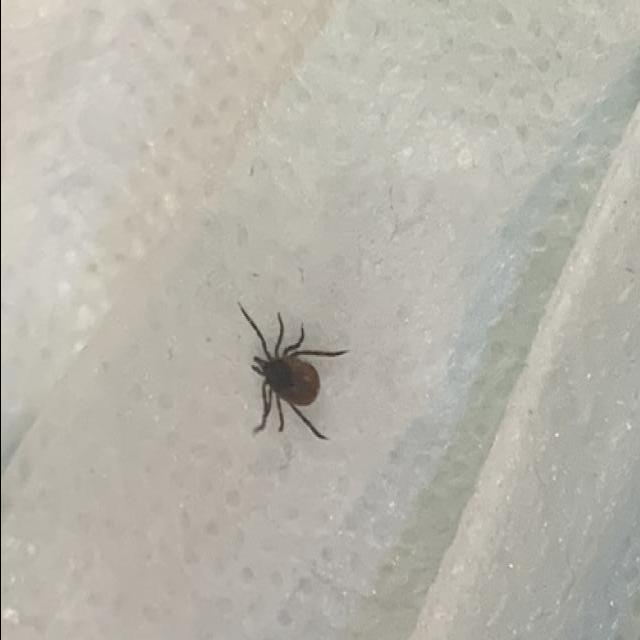Ixodes Ricinus-F: (241, 305, 349, 440)
